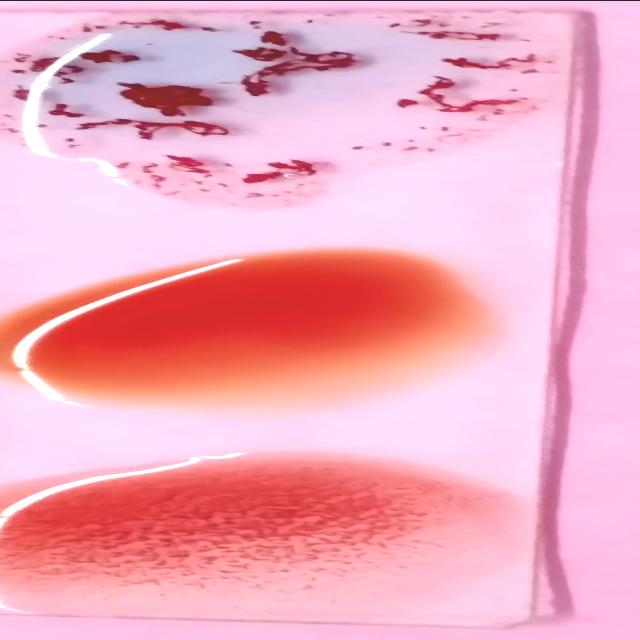A: (28, 8, 560, 180)
D: (8, 476, 506, 602)
